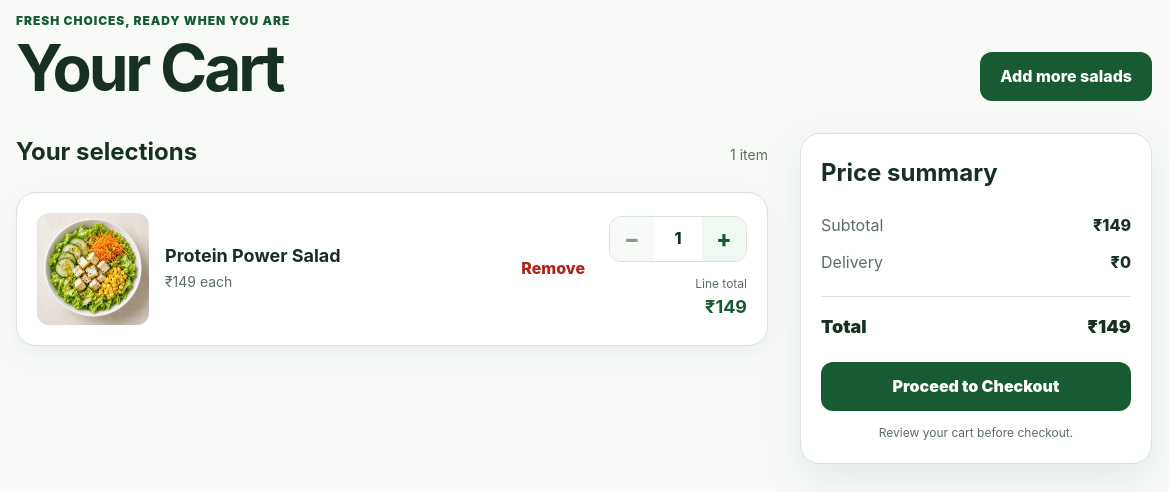
Scenario: CartPageComponent › should remove the final line and return to empty state
Click the button with class "cart-line__remove". click: click(553, 269)
box: [513, 247, 593, 291]
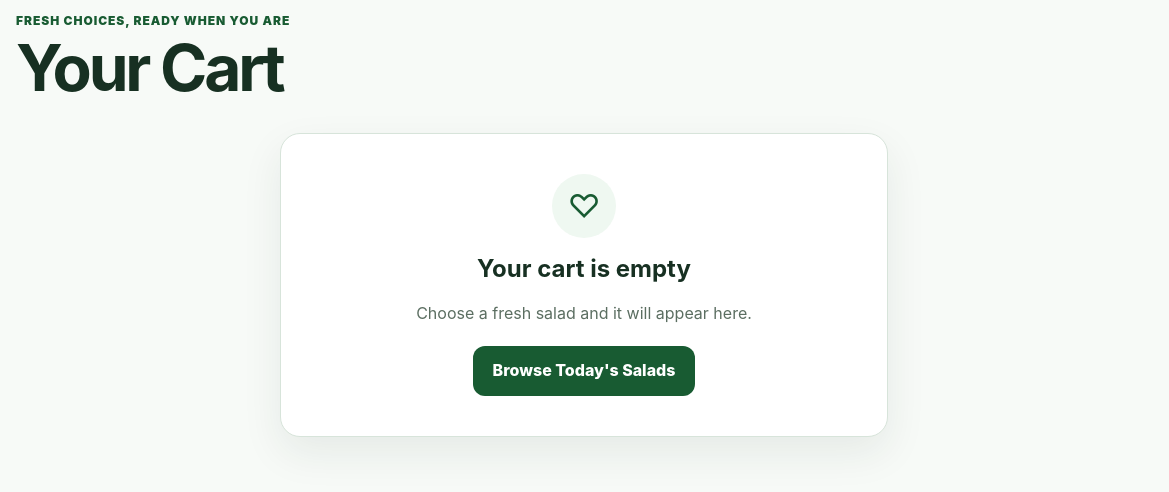
Now the text "Your cart is empty" is shown, box [477, 250, 691, 289]
